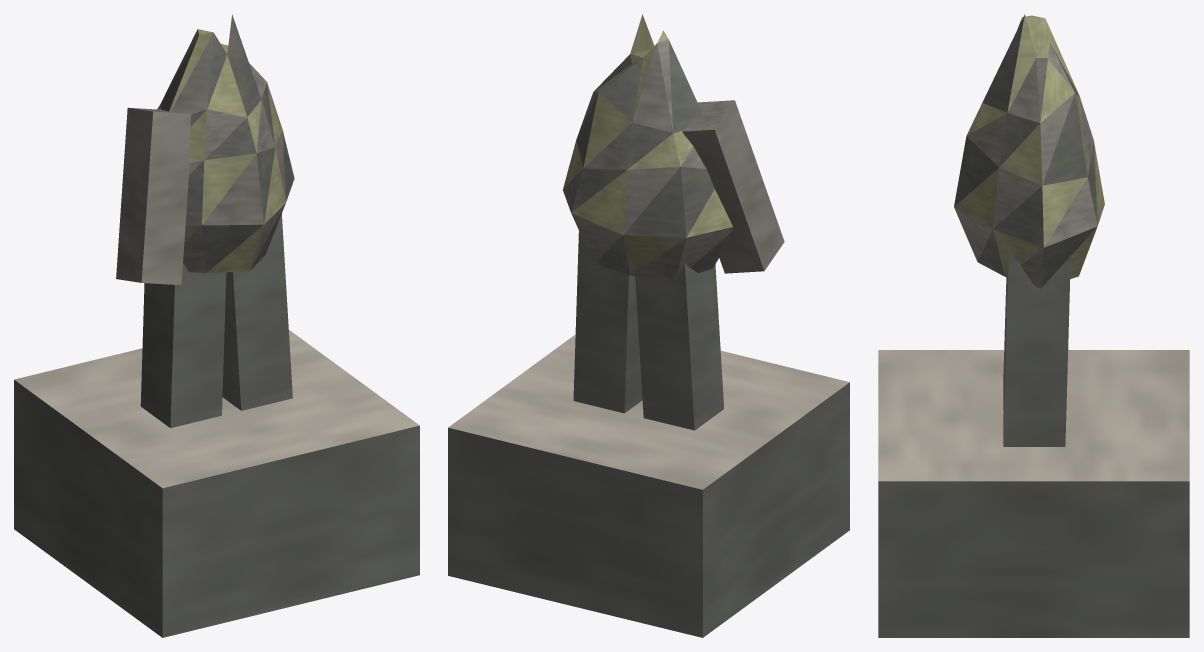
The model's file is statue_broken.fbx.
3 renders of one model, left to right at view 1: azimuth 30°, elevation 25°; view 2: azimuth 150°, elevation 25°; view 3: azimuth 270°, elevation 25°, orthographic. The views are drawn at different scales.
Visible parts, largest first — view 1: statue_broken; view 2: statue_broken; view 3: statue_broken.
Boxes of the visible parts, x1,y1,x2,y2 form: statue_broken: [14, 14, 419, 637]; statue_broken: [448, 14, 849, 637]; statue_broken: [878, 14, 1189, 637].
Size of the model in its own units: 150 by 300 by 150.
1 material, 1 textured.
